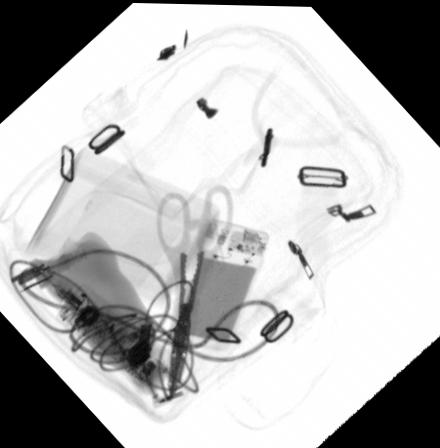Powerbank: (168, 214, 270, 346)
Scissors: (156, 182, 234, 402)
